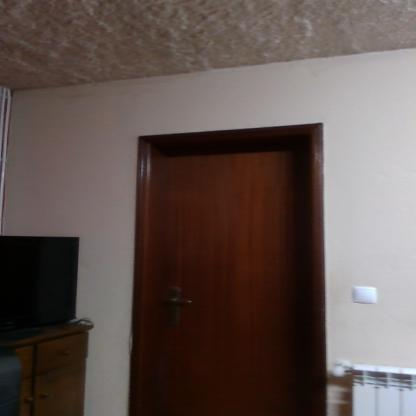door: (145, 148, 313, 415)
lever: (156, 294, 198, 312)
